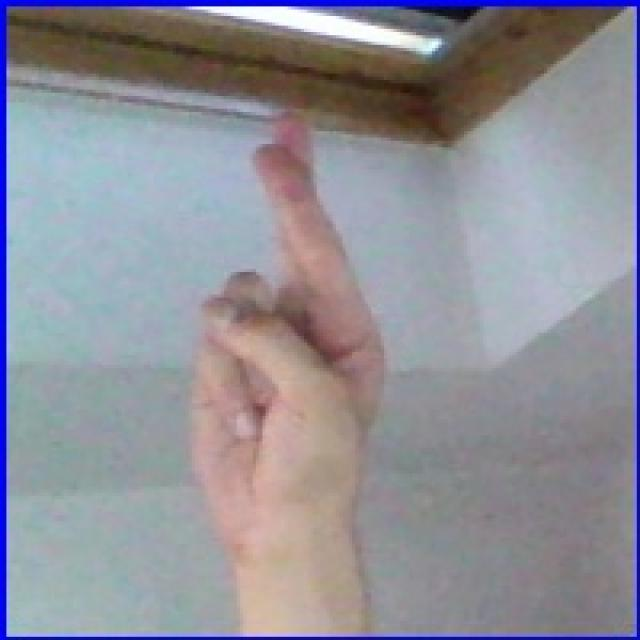Letra-R: (155, 88, 428, 564)
